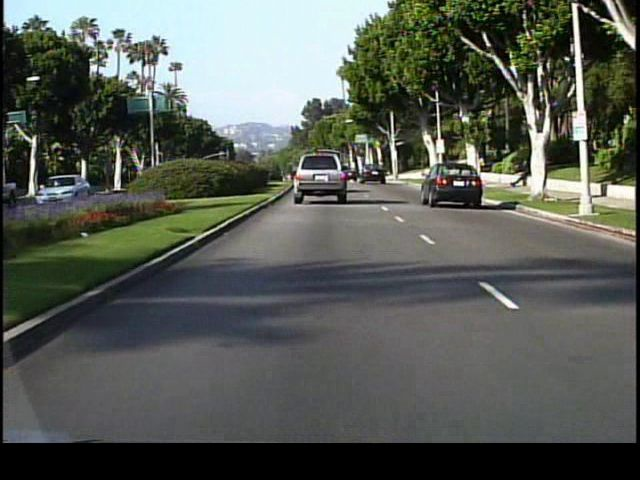person: (509, 157, 530, 192)
